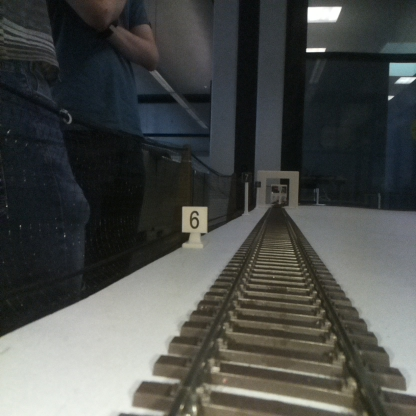black-info-7: (242, 171, 251, 214)
white-stop-6: (181, 206, 207, 247)
